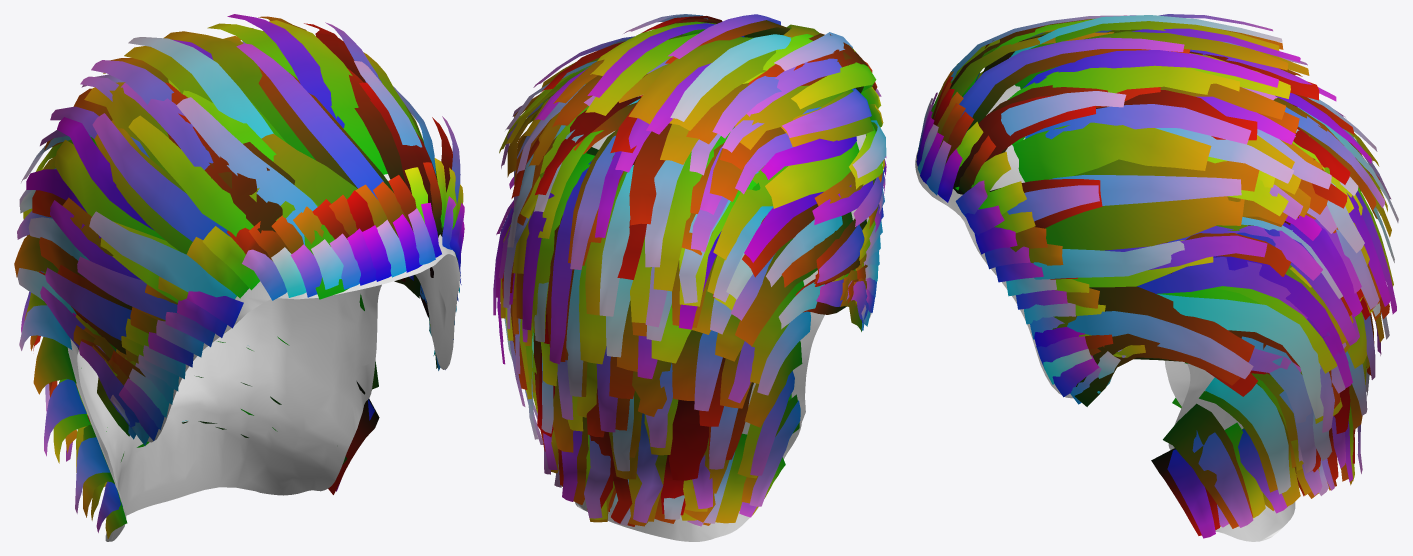
File: Sol_M14.fbx
3 views of the same model, side by side, from view 1: azimuth 30°, elevation 25°; view 2: azimuth 150°, elevation 25°; view 3: azimuth 270°, elevation 25° (orthographic). The views are drawn at different scales.
Visible parts, largest first — view 1: Sol_M14_Cards, Sol_M14_Cap; view 2: Sol_M14_Cards, Sol_M14_Cap; view 3: Sol_M14_Cards, Sol_M14_Cap.
Boxes of the visible parts, x1,y1,x2,y2 form: Sol_M14_Cards: (14,14,464,538); Sol_M14_Cap: (68,174,460,541); Sol_M14_Cards: (493,14,886,526); Sol_M14_Cap: (575,131,882,541); Sol_M14_Cards: (916,14,1398,538); Sol_M14_Cap: (915,85,1295,541).
Bounding box in the file's own units: 15.2 × 21.09 × 19.68.
